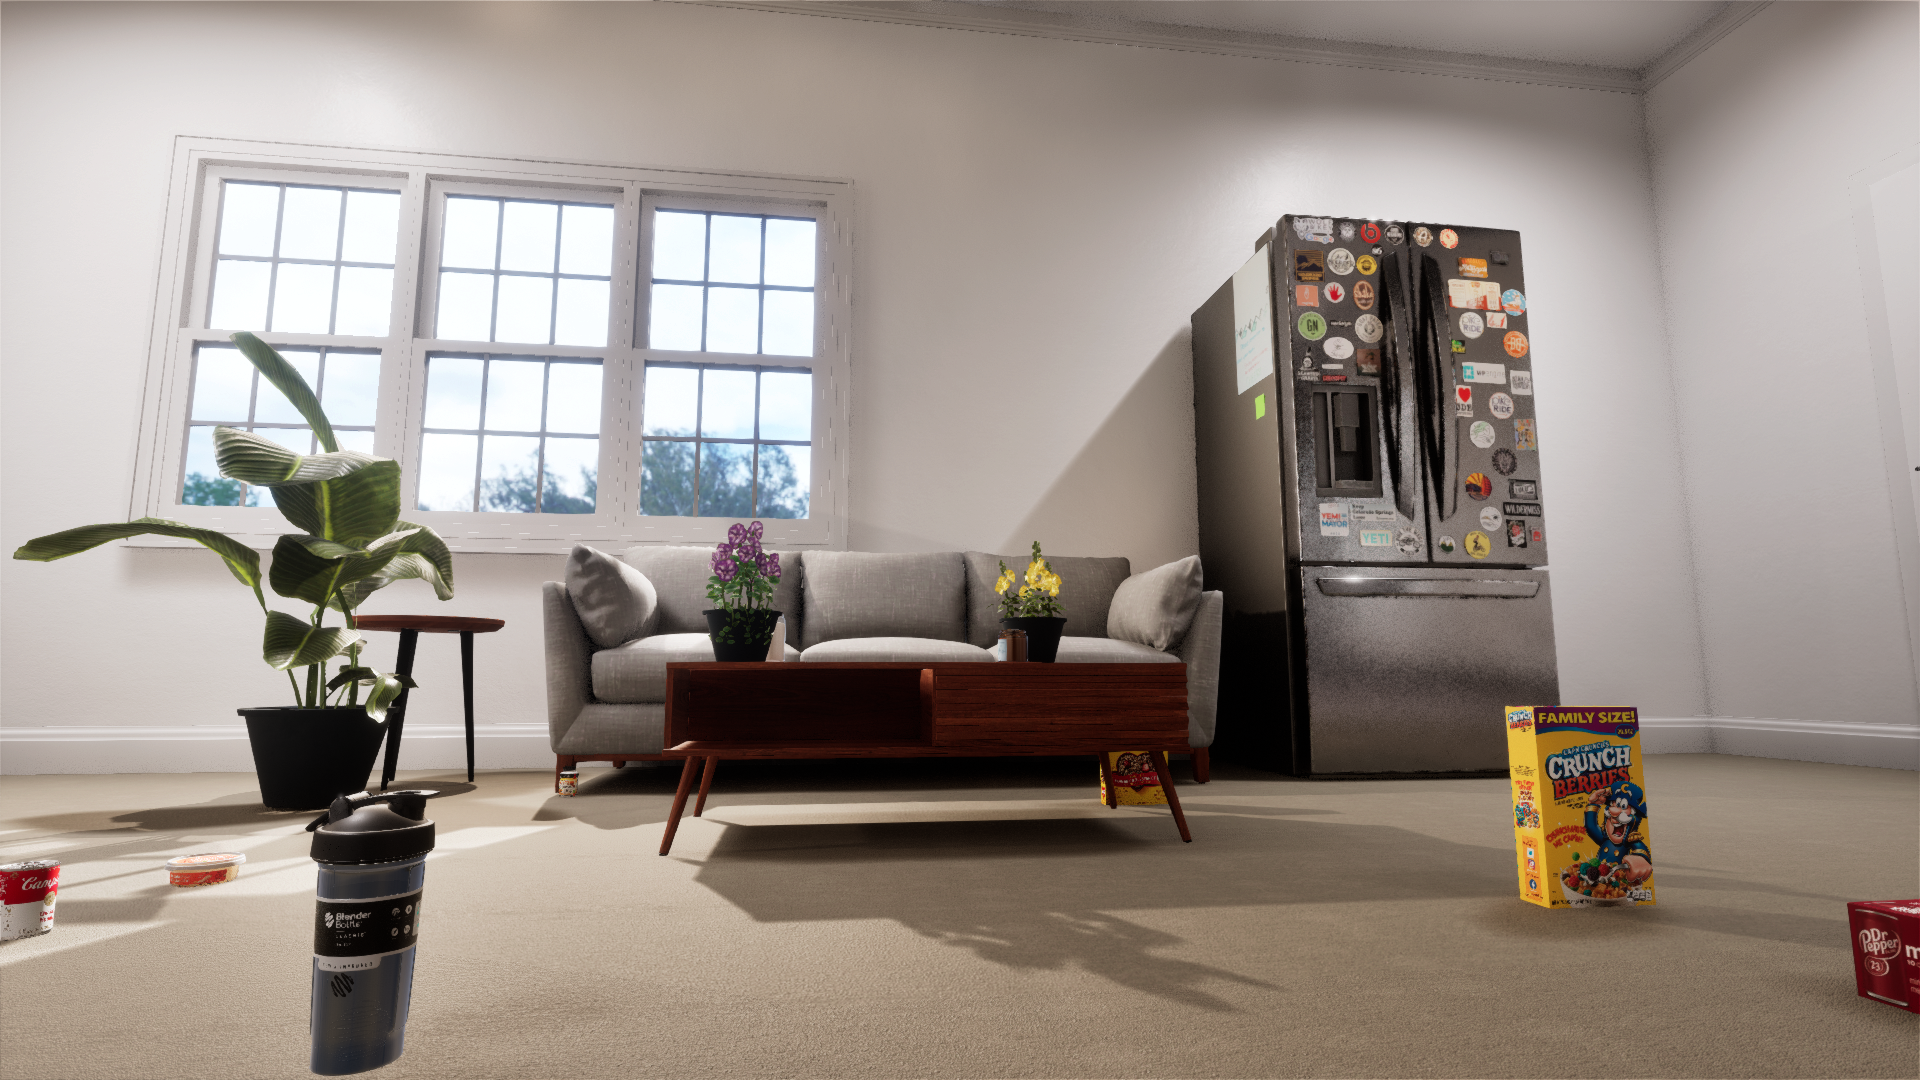cheerios: (1100, 752, 1168, 804)
soup: (0, 860, 61, 942)
